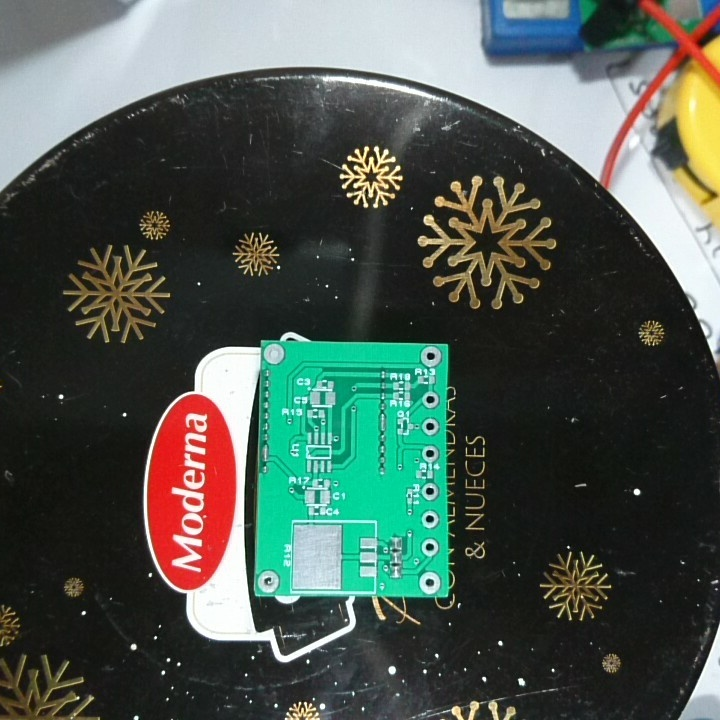F: (261, 341, 287, 367), (417, 344, 444, 369), (418, 567, 441, 596), (256, 568, 281, 594), (419, 535, 441, 560), (420, 415, 441, 438), (419, 443, 441, 463), (419, 483, 441, 503), (421, 389, 440, 412), (419, 510, 441, 529)
P: (377, 412, 390, 432), (260, 443, 272, 463)
